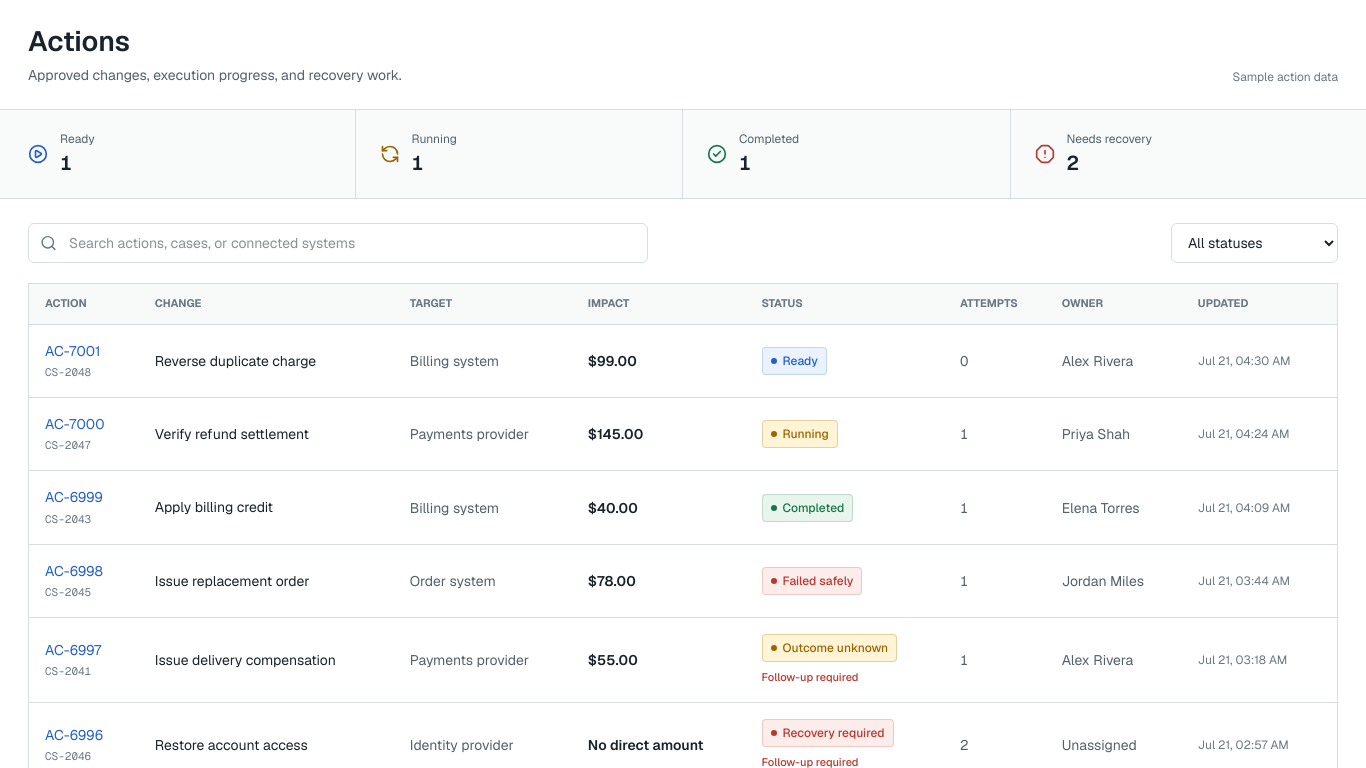
ActionQueue › filters by execution state
Select "Outcome unknown" in the dropdown named "Filter action status": (1254, 243) [1171,223,1338,263]
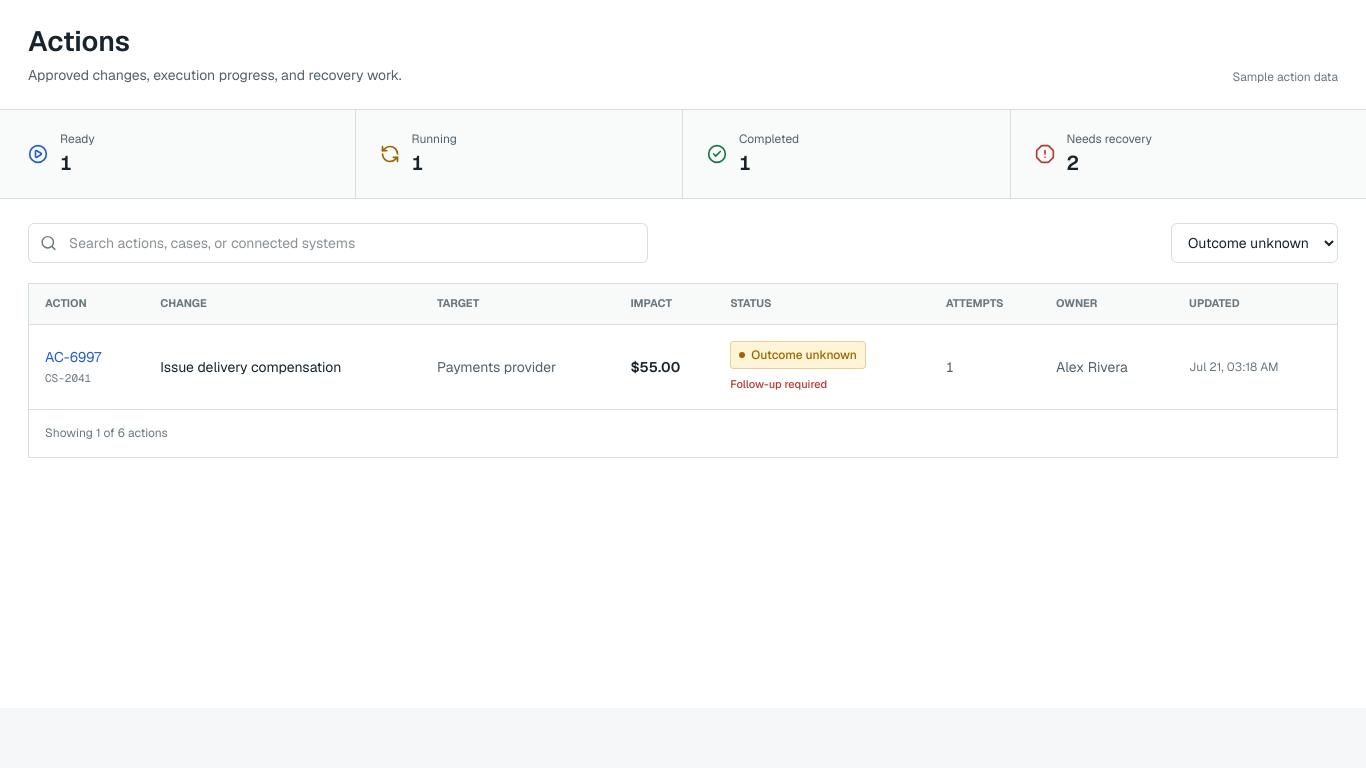
Expected: the link "Issue delivery compensation" is shown, [160,358,341,376]
Now the link "Reverse duplicate charge" is gone
